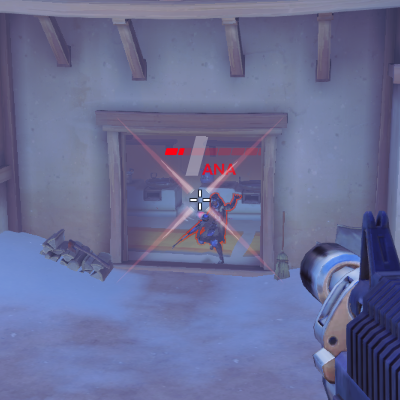hpbar: (164, 147, 262, 156)
